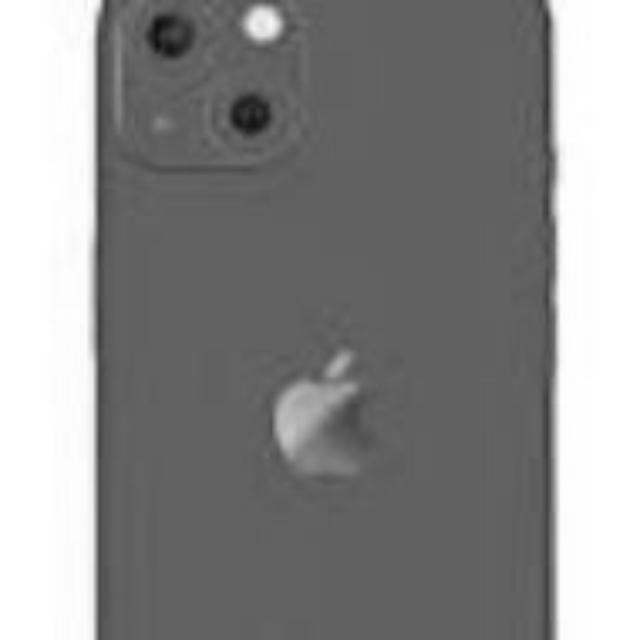fake: (100, 0, 555, 640)
